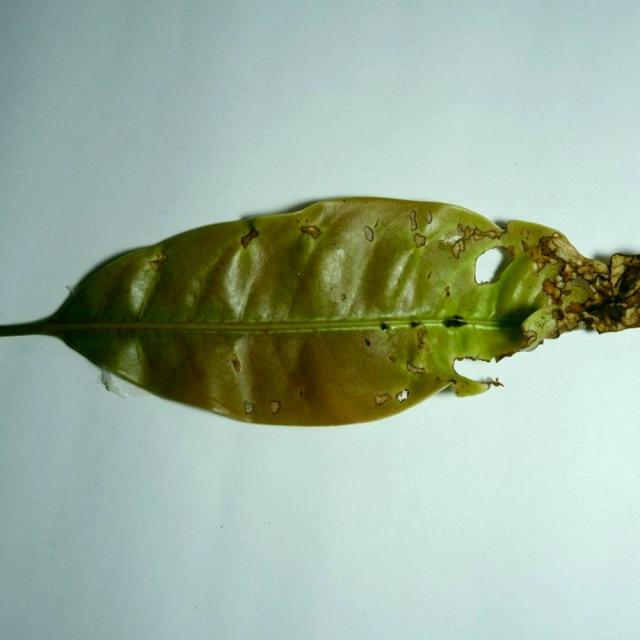Anthracnose: (116, 330, 221, 412), (143, 232, 231, 317), (427, 315, 539, 375), (364, 203, 459, 268), (283, 196, 475, 227), (87, 333, 153, 392), (497, 219, 568, 268), (306, 254, 348, 310), (587, 292, 638, 333), (519, 303, 563, 350), (548, 273, 588, 323), (606, 252, 639, 309), (473, 244, 515, 288), (402, 328, 436, 378), (123, 267, 157, 313), (449, 377, 495, 397), (465, 320, 484, 365), (379, 319, 429, 331), (569, 274, 596, 295), (469, 227, 500, 242), (576, 261, 600, 279), (413, 327, 431, 350), (245, 217, 261, 241), (594, 279, 613, 298), (299, 224, 322, 239), (534, 310, 552, 327), (521, 329, 538, 347), (453, 355, 472, 370), (149, 258, 163, 272), (363, 225, 375, 241), (269, 400, 282, 414), (551, 291, 564, 305), (157, 251, 167, 261), (260, 328, 272, 335), (448, 379, 458, 386)
Mango: (0, 198, 639, 430)
